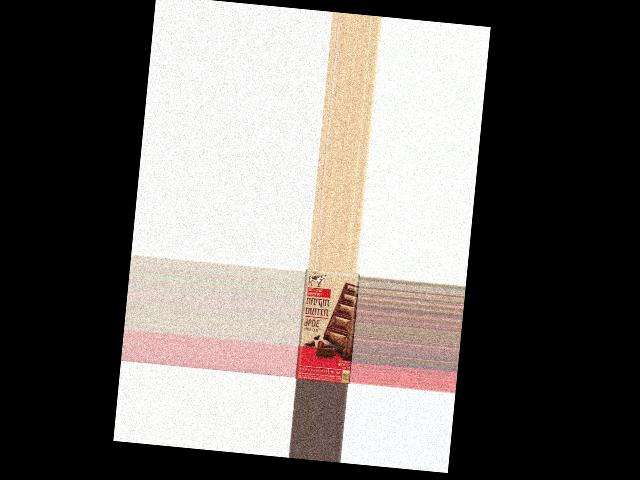chocolate: (294, 268, 359, 383)
